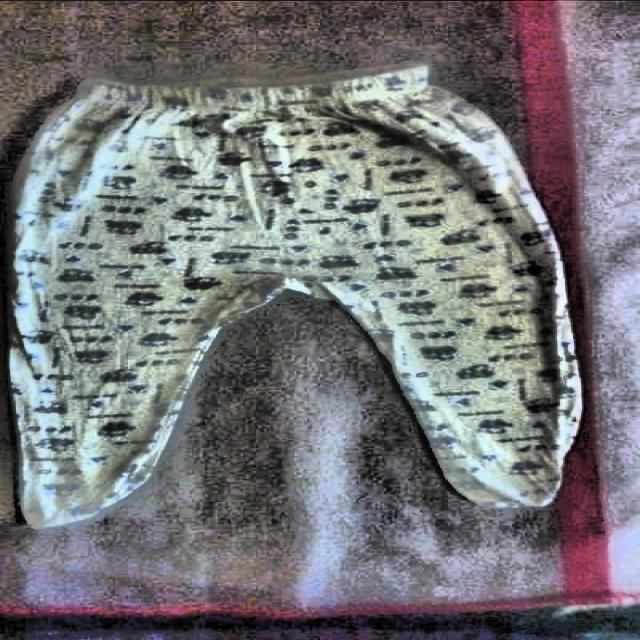clothes: (10, 55, 584, 528)
